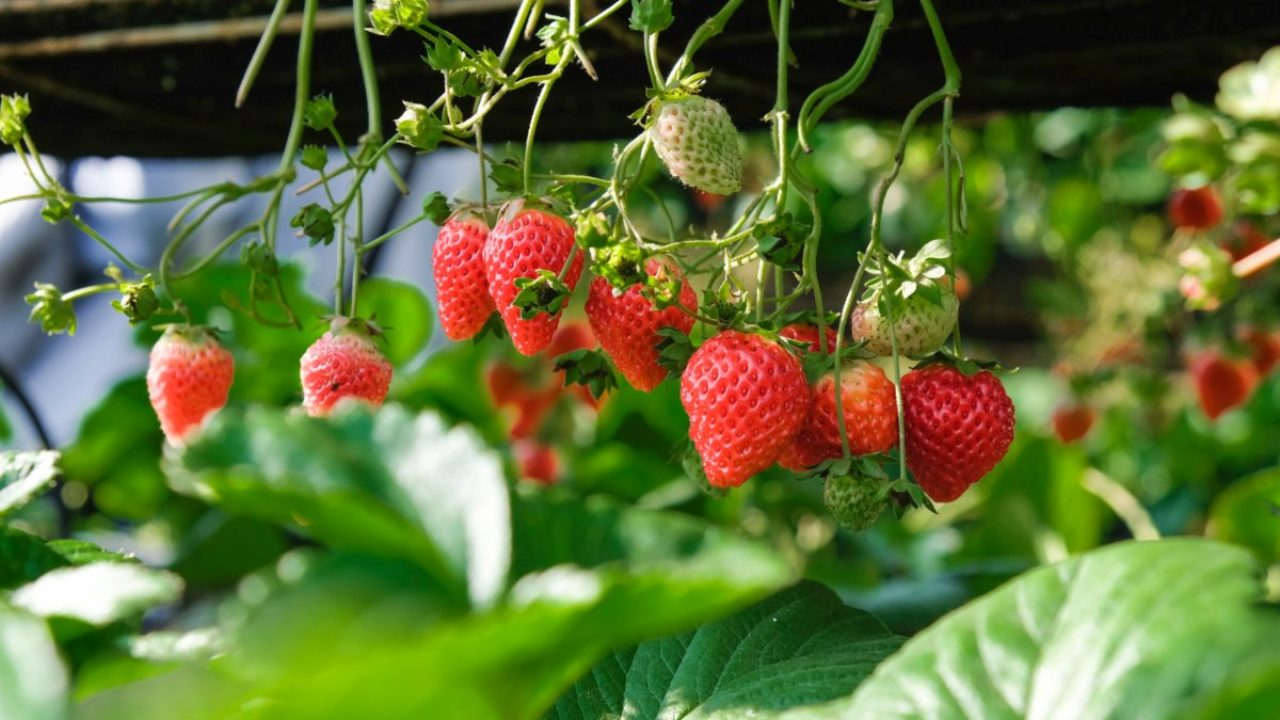ripe: (674, 326, 815, 500), (573, 246, 707, 404), (892, 351, 1022, 511), (481, 205, 589, 361), (144, 325, 239, 449), (429, 206, 500, 345)
unripe: (647, 86, 747, 209), (857, 260, 965, 365), (341, 271, 445, 370), (811, 364, 906, 467), (298, 328, 391, 424), (822, 457, 897, 538)
